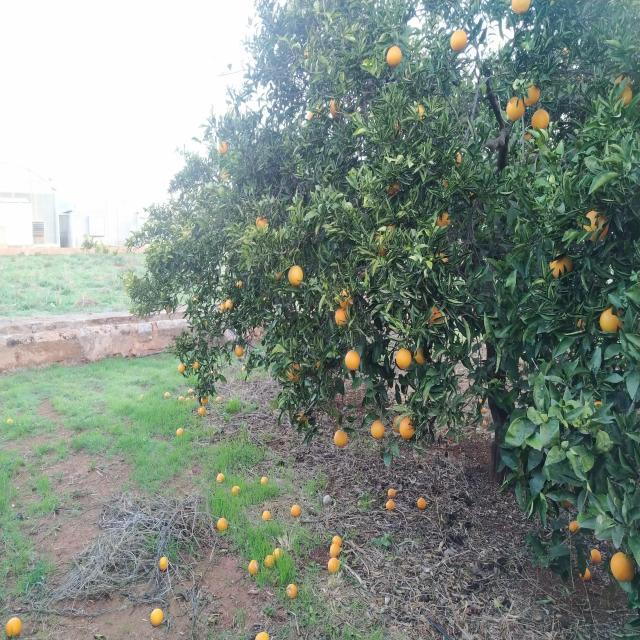Jeruk Sudah Matang: (584, 210, 610, 242), (611, 552, 635, 582), (600, 306, 624, 334), (550, 254, 573, 278), (506, 96, 526, 122), (522, 82, 542, 106), (531, 108, 550, 132), (450, 28, 468, 52), (396, 348, 412, 371), (618, 84, 634, 106), (288, 265, 304, 286), (428, 305, 444, 326), (387, 46, 402, 66), (339, 288, 354, 308), (346, 350, 360, 370), (400, 418, 414, 438), (511, 0, 531, 13), (334, 430, 348, 448), (309, 105, 323, 123), (372, 420, 384, 440), (336, 308, 348, 328), (436, 212, 450, 228), (288, 363, 300, 381), (393, 414, 403, 434), (331, 99, 342, 117), (256, 216, 268, 232), (327, 560, 340, 574), (414, 348, 426, 363), (386, 182, 399, 194), (590, 549, 602, 562), (265, 554, 275, 569), (217, 518, 228, 531), (332, 534, 342, 548), (330, 544, 340, 558), (453, 150, 461, 167), (273, 547, 283, 560), (416, 104, 424, 120), (218, 142, 228, 154), (570, 520, 580, 532), (290, 505, 300, 517), (417, 497, 426, 509), (385, 500, 395, 510), (261, 510, 271, 520), (387, 488, 396, 498), (217, 473, 225, 483), (220, 301, 227, 312), (275, 269, 282, 280), (236, 346, 243, 356), (201, 396, 209, 404), (236, 280, 244, 288), (178, 363, 185, 372), (226, 300, 232, 310), (192, 362, 199, 370), (200, 407, 206, 415), (198, 406, 204, 414), (166, 305, 172, 313)
